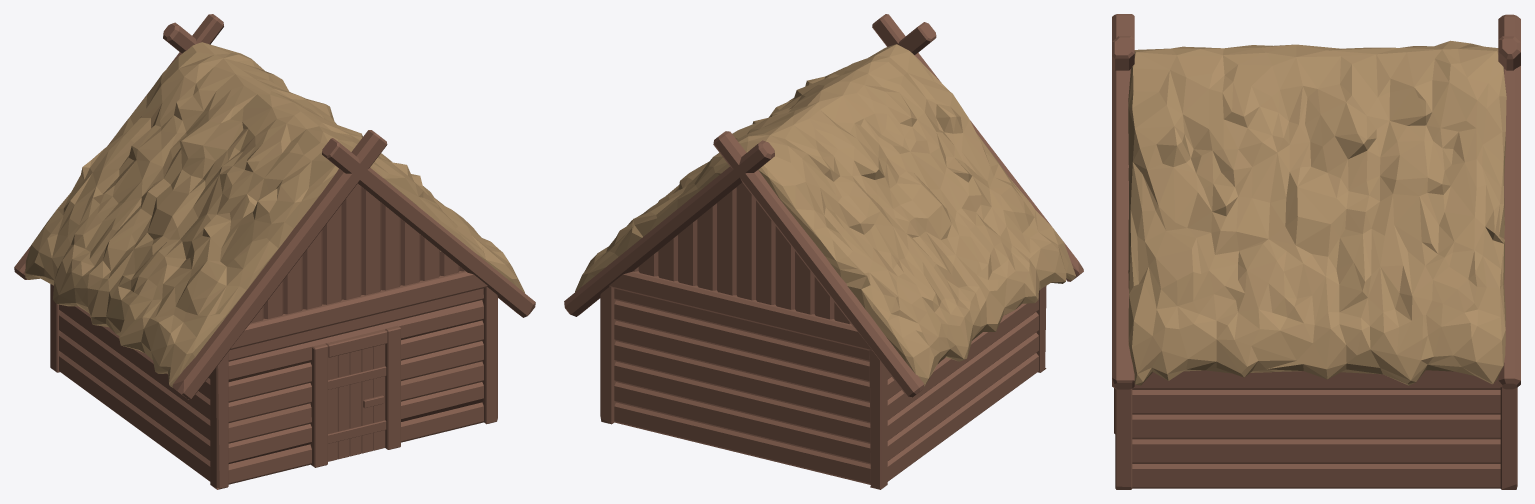
File: SM_House_01.fbx
3 renders of one model, left to right at view 1: azimuth 30°, elevation 25°; view 2: azimuth 150°, elevation 25°; view 3: azimuth 270°, elevation 25°, orthographic. The views are drawn at different scales.
Parts seen in each view (by area): view 1: SM_House_01; view 2: SM_House_01; view 3: SM_House_01.
Part boxes in pixels (x1,y1,x2,y2): SM_House_01: (14, 14, 535, 489); SM_House_01: (564, 14, 1083, 489); SM_House_01: (1112, 14, 1520, 489).
Size of the model in its own units: 8.1 by 6.72 by 6.48.
